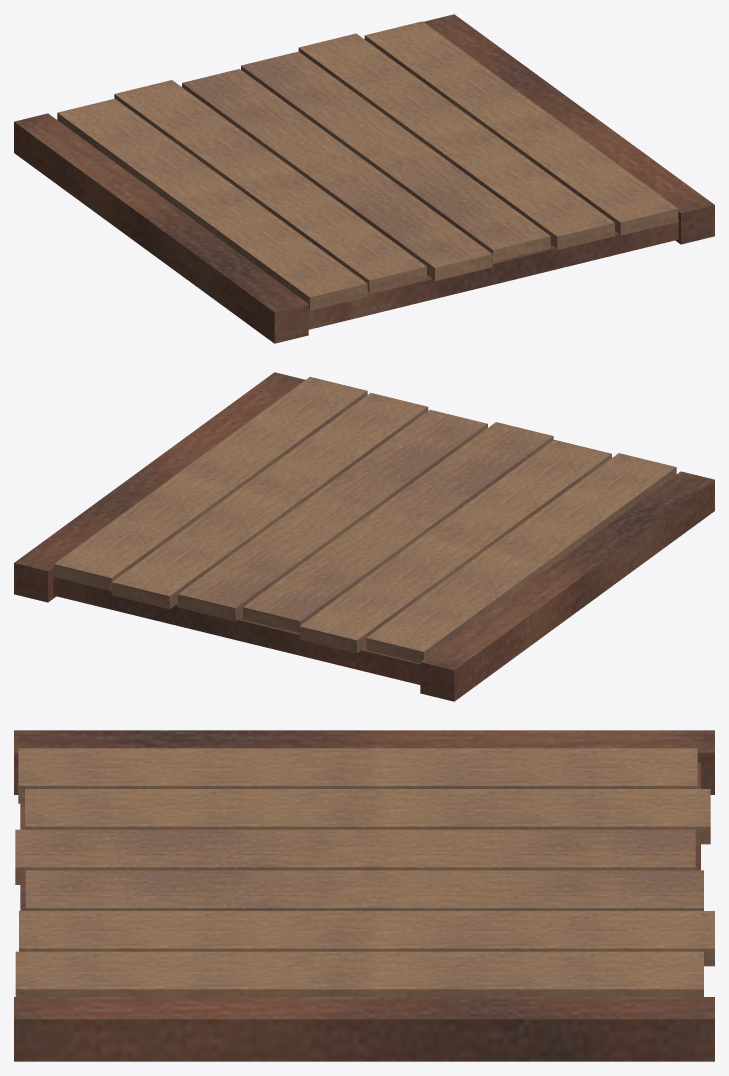
Rendered from ElevatorScaffold.fbx.
3 renders of one model, top to bottom at view 1: azimuth 30°, elevation 25°; view 2: azimuth 150°, elevation 25°; view 3: azimuth 270°, elevation 25°, orthographic. The views are drawn at different scales.
Visible parts, largest first — view 1: ScafoldNOSupport; view 2: ScafoldNOSupport; view 3: ScafoldNOSupport.
Part boxes in pixels (x1,y1,x2,y2): ScafoldNOSupport: (14, 14, 714, 343); ScafoldNOSupport: (14, 372, 714, 701); ScafoldNOSupport: (14, 730, 714, 1061).
Bounding box in the file's own units: 399 × 31.23 × 409.
